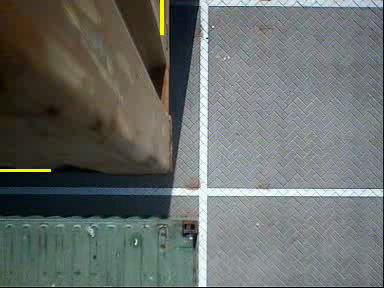groundmarker_2: (175, 138, 243, 185)
